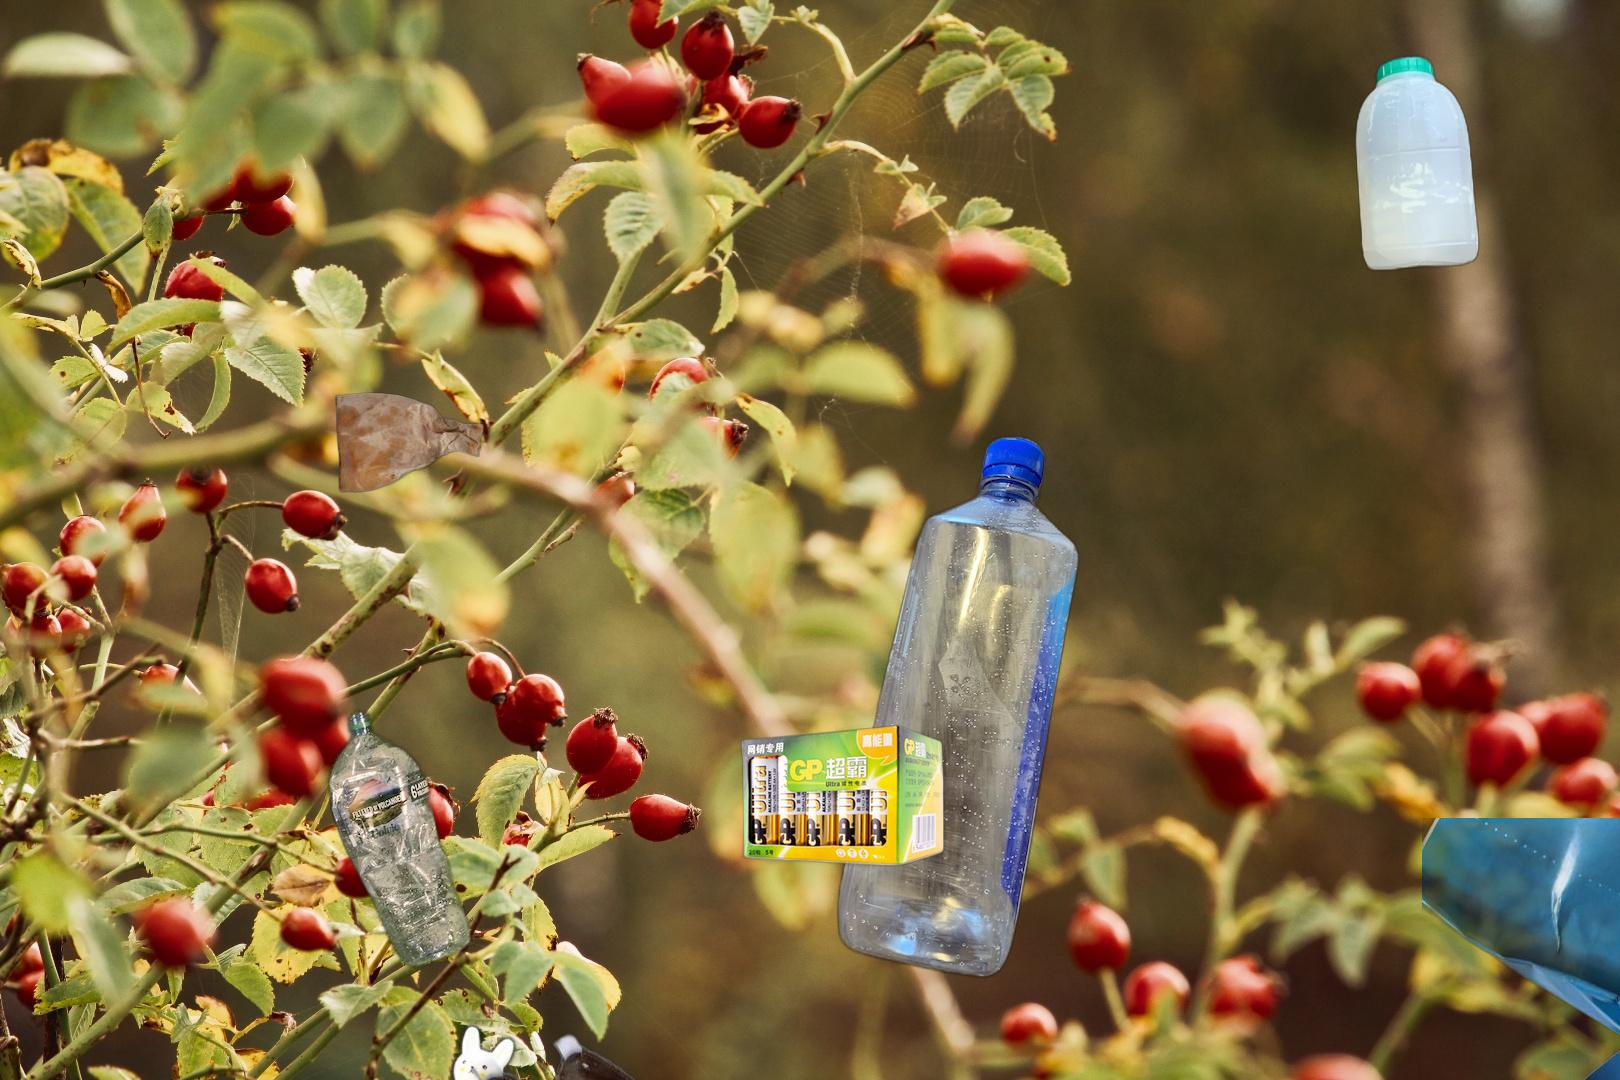battery: (738, 723, 947, 871)
paper: (1422, 818, 1620, 1080)
paper-bag: (334, 392, 485, 494)
penholder: (182, 972, 873, 1080)
plastic-bottles: (834, 430, 1084, 984), (324, 706, 476, 974), (1352, 49, 1484, 277)
shoes: (468, 1027, 792, 1080)
